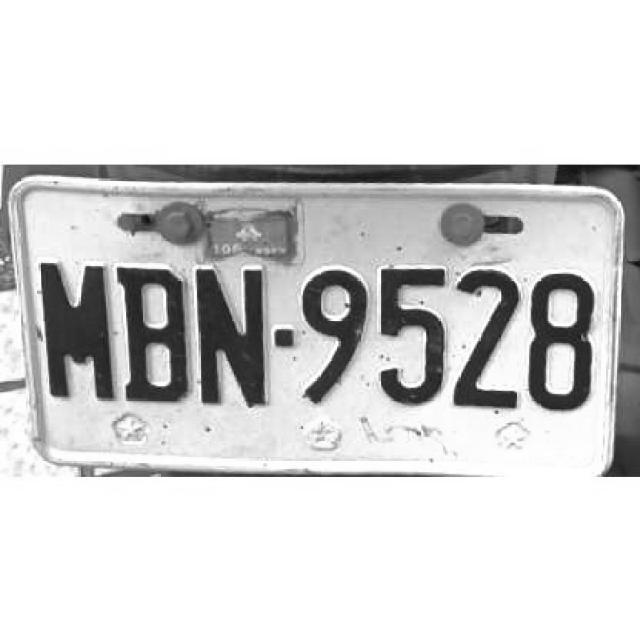-: (272, 323, 294, 348)
2: (452, 265, 522, 409)
5: (377, 263, 448, 408)
8: (528, 266, 597, 411)
9: (298, 262, 369, 404)
B: (114, 262, 191, 400)
M: (37, 257, 115, 398)
N: (194, 263, 269, 405)
